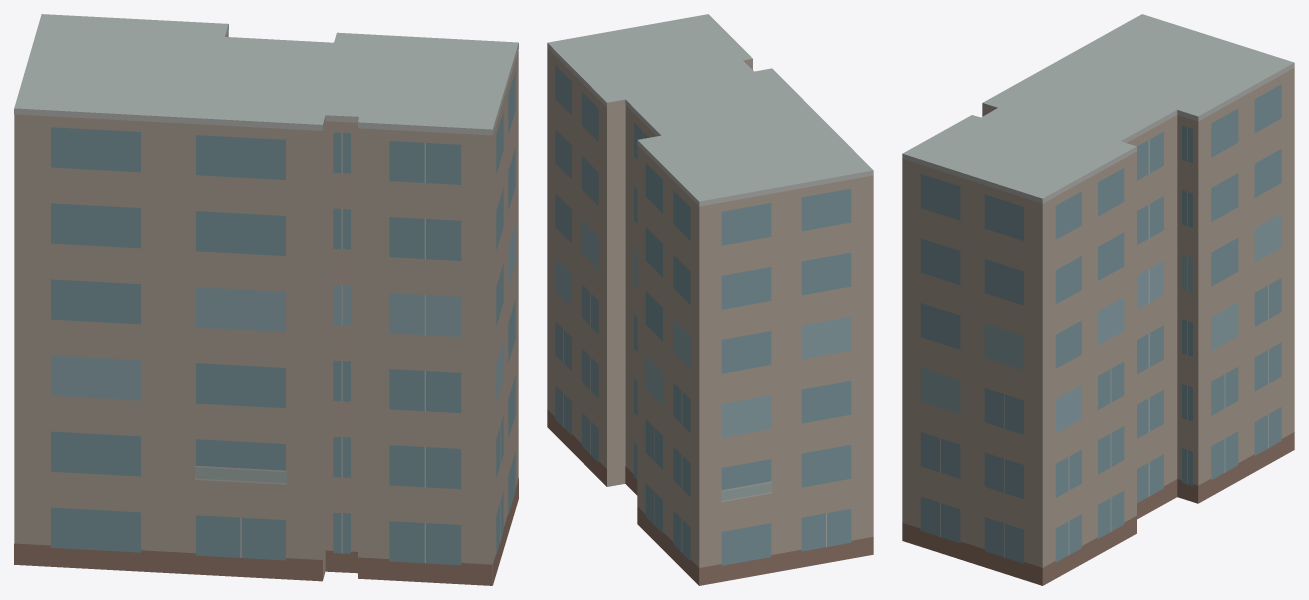
File: survey-upis-32628386.glb
The picture shows the model from 3 angles, left to right: view 1: azimuth 30°, elevation 25°; view 2: azimuth 150°, elevation 25°; view 3: azimuth 270°, elevation 25°; orthographic projection. The views are drawn at different scales.
Visible parts, largest first — view 1: survey-upis-32628386.tmp; view 2: survey-upis-32628386.tmp; view 3: survey-upis-32628386.tmp.
Boxes of the visible parts, box(x1,y1,x2,y2) form: survey-upis-32628386.tmp: box(14, 14, 518, 585); survey-upis-32628386.tmp: box(547, 14, 873, 585); survey-upis-32628386.tmp: box(902, 14, 1294, 585).
Size of the model in its own units: 19.14 by 18.7 by 17.18.
